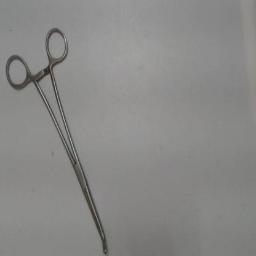Lahey Forceps: (3, 20, 111, 254)
